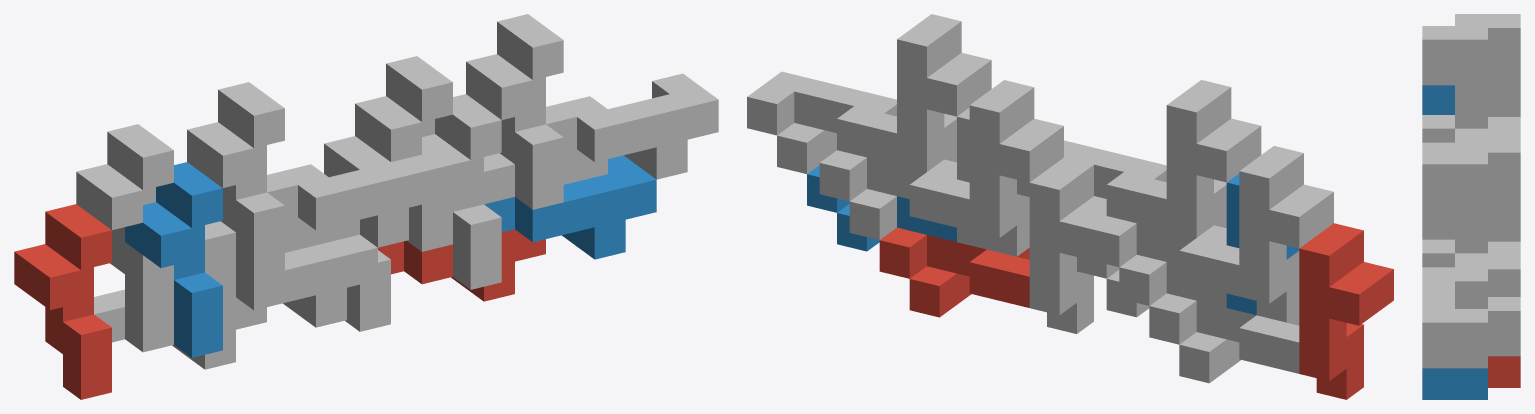
The model's file is tiling.obj.
The picture shows the model from 3 angles, left to right: view 1: azimuth 30°, elevation 25°; view 2: azimuth 150°, elevation 25°; view 3: azimuth 270°, elevation 25°; orthographic projection. The views are drawn at different scales.
Visible parts, largest first — view 1: copy_1_domain_1, copy_1_domain_8, copy_1_domain_4, copy_2_domain_8, copy_1_domain_2, copy_1_domain_3, copy_2_domain_4, copy_1_domain_6, copy_1_domain_7, copy_2_domain_6, copy_2_domain_2, copy_2_domain_1 (+4 smaller); view 2: copy_1_domain_1, copy_1_domain_3, copy_1_domain_7, copy_2_domain_8, copy_1_domain_4, copy_1_domain_8, copy_1_domain_5, copy_2_domain_5, copy_2_domain_1, copy_2_domain_3, copy_2_domain_7, copy_2_domain_4 (+4 smaller); view 3: copy_2_domain_8, copy_1_domain_8, copy_1_domain_4, copy_1_domain_7, copy_2_domain_7, copy_1_domain_3, copy_2_domain_6, copy_2_domain_5, copy_1_domain_2, copy_1_domain_6, copy_2_domain_3, copy_2_domain_4.
Boxes of the visible parts, <box> form: copy_1_domain_1: <box>14,204,111,399</box>; copy_1_domain_8: <box>466,14,563,209</box>; copy_1_domain_4: <box>187,82,284,277</box>; copy_2_domain_8: <box>546,73,718,179</box>; copy_1_domain_2: <box>125,162,222,357</box>; copy_1_domain_3: <box>76,124,173,319</box>; copy_2_domain_4: <box>267,154,439,247</box>; copy_1_domain_6: <box>422,94,501,289</box>; copy_1_domain_7: <box>355,56,452,251</box>; copy_2_domain_6: <box>484,155,656,259</box>; copy_2_domain_2: <box>205,234,377,327</box>; copy_2_domain_1: <box>94,289,266,369</box>; copy_1_domain_1: <box>1299,223,1393,399</box>; copy_1_domain_3: <box>1239,146,1333,322</box>; copy_1_domain_7: <box>969,80,1063,256</box>; copy_2_domain_8: <box>747,71,896,173</box>; copy_1_domain_4: <box>1166,80,1261,237</box>; copy_1_domain_8: <box>897,14,991,171</box>; copy_1_domain_5: <box>1029,157,1106,333</box>; copy_2_domain_5: <box>879,227,1029,317</box>; copy_2_domain_1: <box>1149,293,1299,383</box>; copy_2_domain_3: <box>1089,216,1239,305</box>; copy_2_domain_7: <box>819,150,969,239</box>; copy_2_domain_4: <box>1017,140,1166,230</box>; copy_2_domain_8: <box>1422,253,1487,368</box>; copy_1_domain_8: <box>1422,150,1487,267</box>; copy_1_domain_4: <box>1422,26,1487,142</box>; copy_1_domain_7: <box>1455,138,1520,241</box>; copy_2_domain_7: <box>1488,241,1520,356</box>; copy_1_domain_3: <box>1455,14,1520,116</box>; copy_2_domain_6: <box>1422,368,1487,399</box>; copy_2_domain_5: <box>1488,356,1520,387</box>; copy_1_domain_2: <box>1422,85,1454,114</box>; copy_1_domain_6: <box>1422,210,1454,239</box>; copy_2_domain_3: <box>1488,117,1520,138</box>; copy_2_domain_4: <box>1422,128,1487,150</box>.
Bounding box in the file's own units: 21 × 8 × 3.
